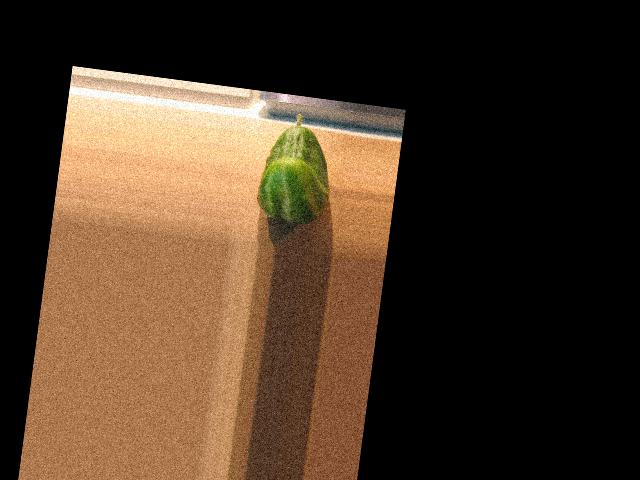cucumber: (253, 109, 338, 227)
